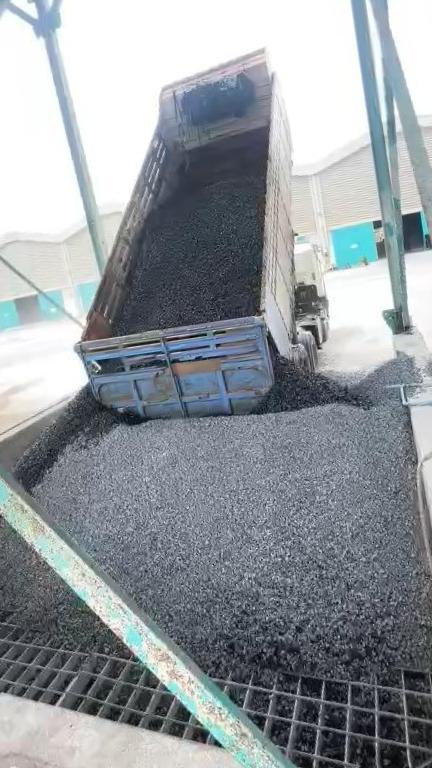gravel: (9, 334, 432, 680), (113, 181, 261, 336), (0, 514, 113, 655)
sand: (0, 381, 47, 448)
